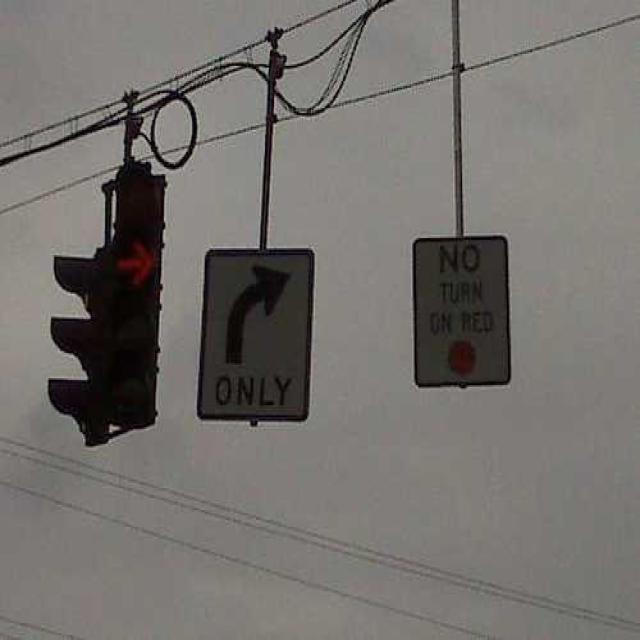Traffic Light -Red-: (94, 241, 174, 434)
